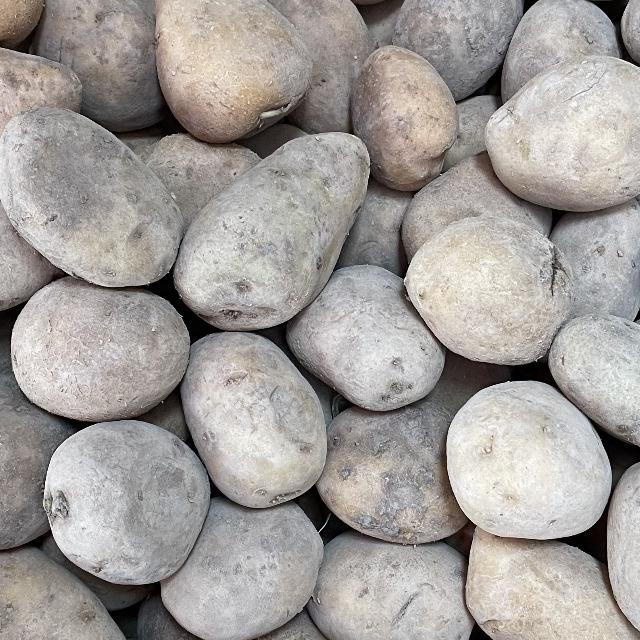potato: (168, 122, 392, 335), (20, 405, 240, 598), (0, 90, 182, 295), (465, 40, 640, 220), (137, 0, 320, 142)
